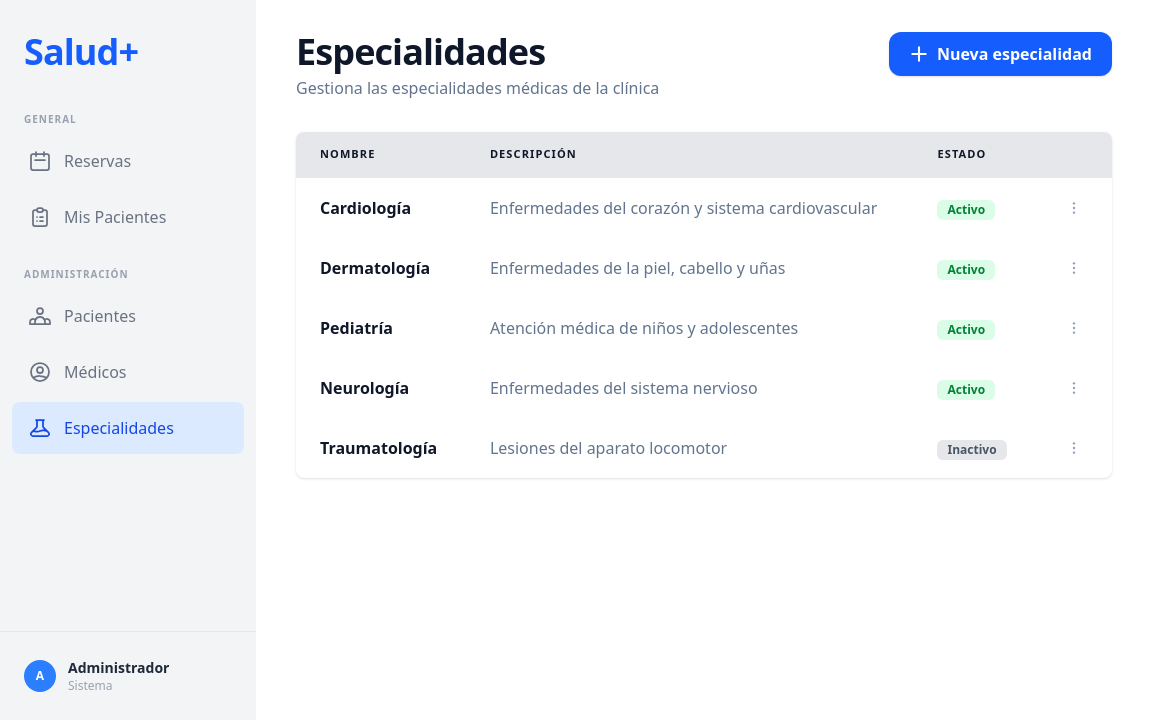
Test case: Admin · Gestión de especialidades (RF08) › edita la descripción de una especialidad existente
Click the button without text in the row of "Pediatría" at (1074, 328), box [1060, 314, 1088, 342]
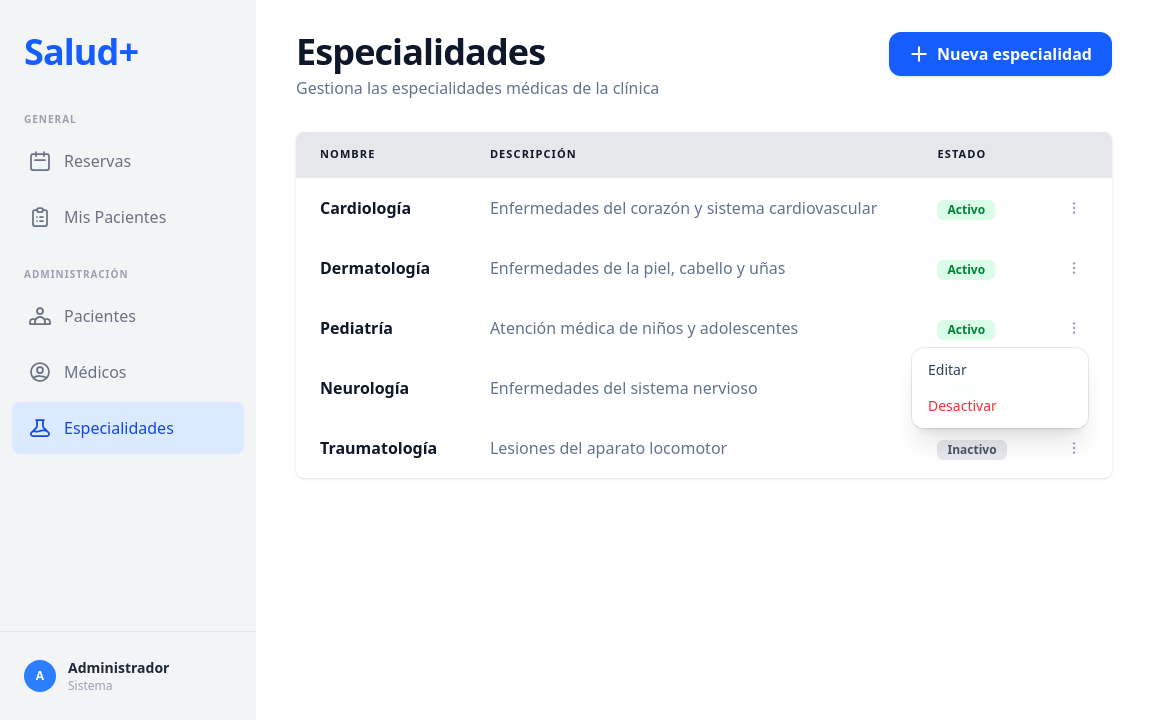
Click the button "Editar" at (1000, 370), box [912, 352, 1088, 388]
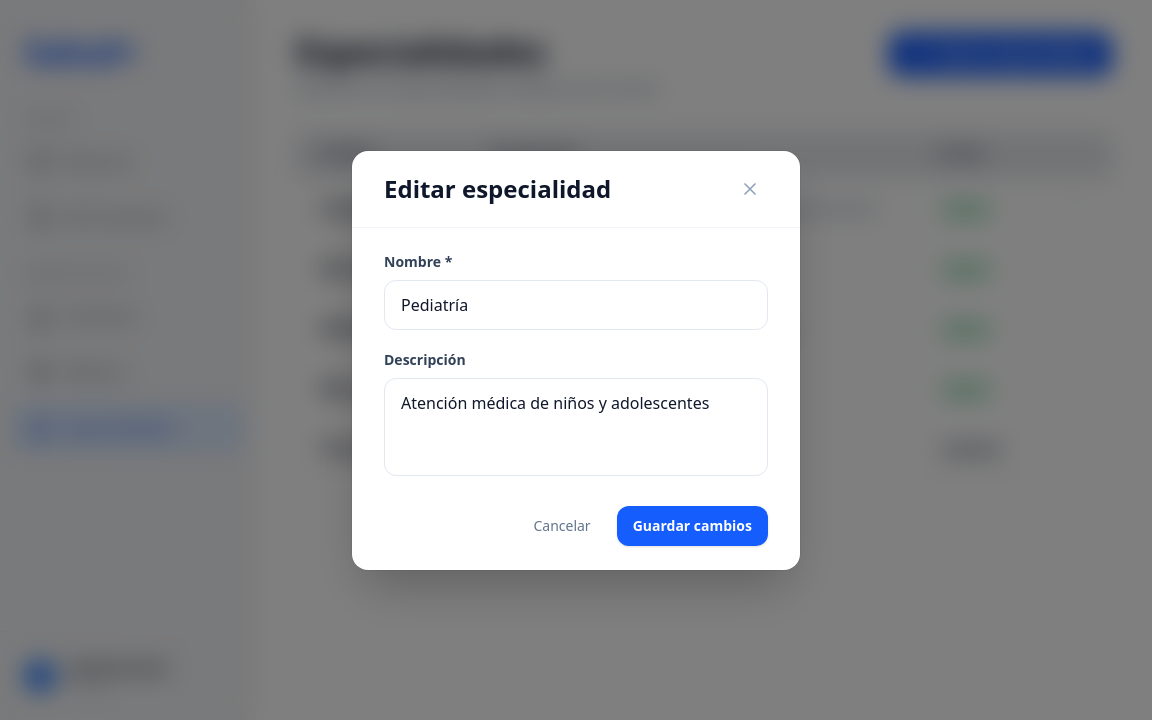
Replace the text in the text box with "Cuidado integral de niños, niñas y adolescentes" at (576, 427), box [384, 378, 768, 476]
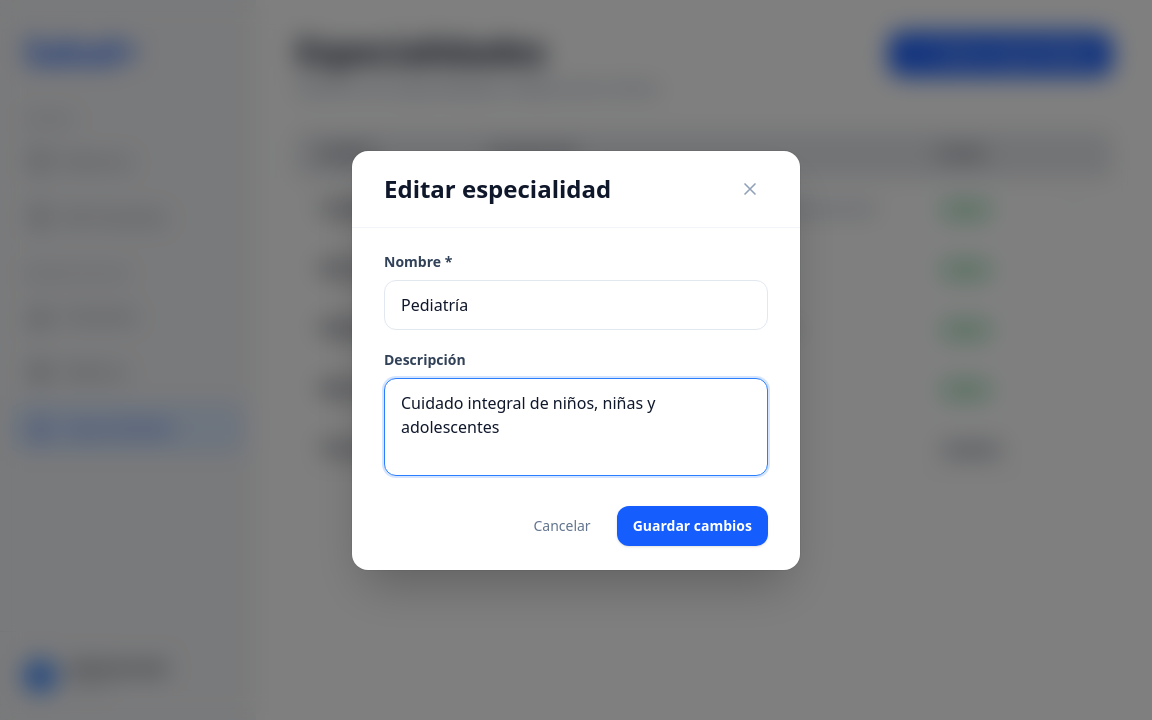
Click the button "Guardar cambios" at (693, 526), box [617, 506, 768, 546]
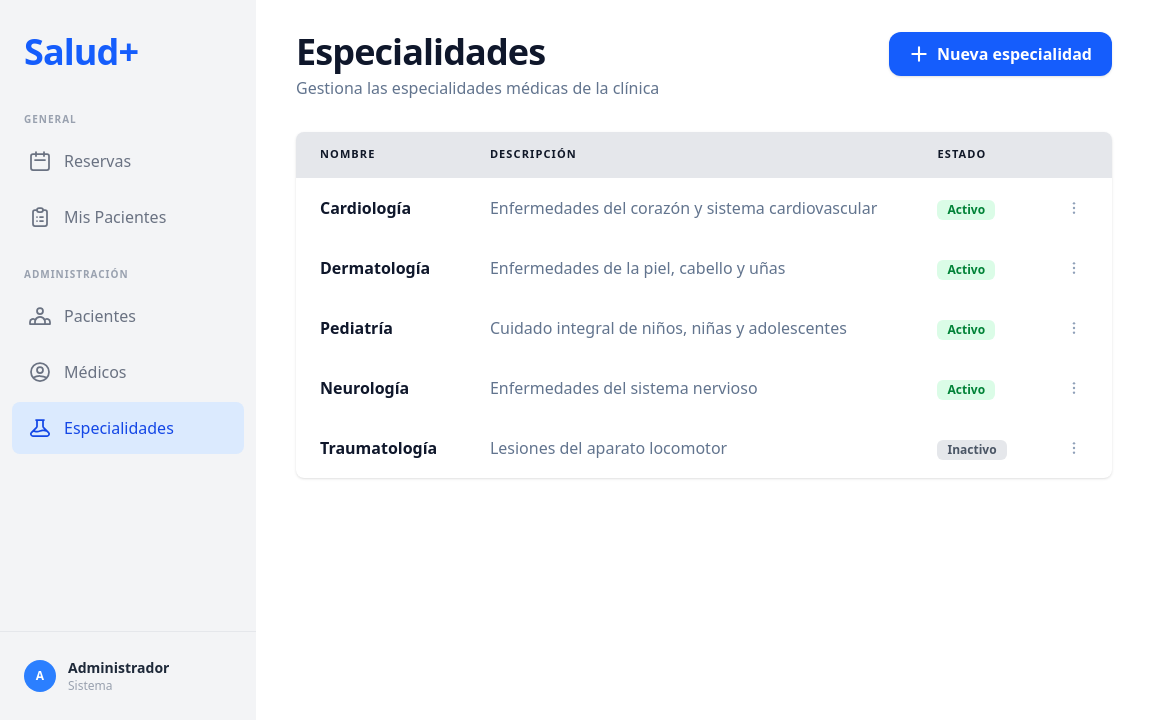
Expected: the text "Cuidado integral de niños, niñas y adolescentes" is shown, [466, 298, 914, 358]
